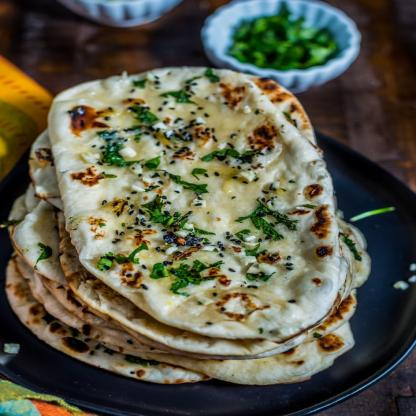naan: (48, 66, 339, 341), (31, 73, 322, 210), (32, 265, 354, 382), (57, 209, 278, 358), (7, 256, 212, 382), (10, 197, 58, 288)
